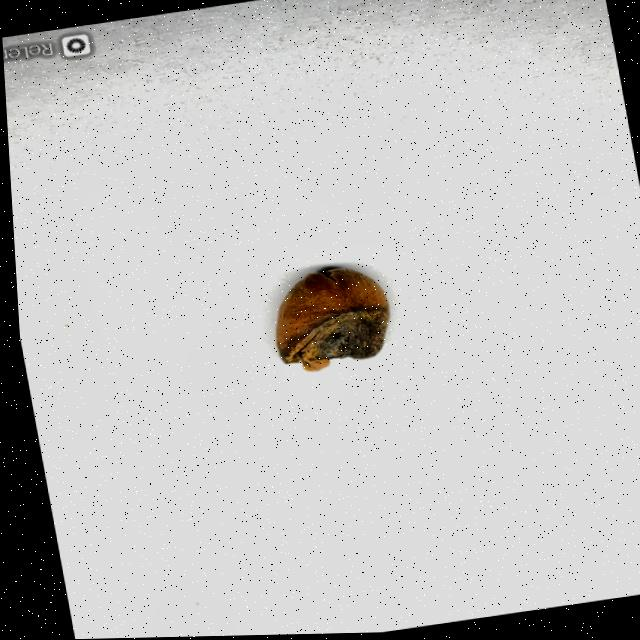Insect damage: (260, 262, 396, 378)
